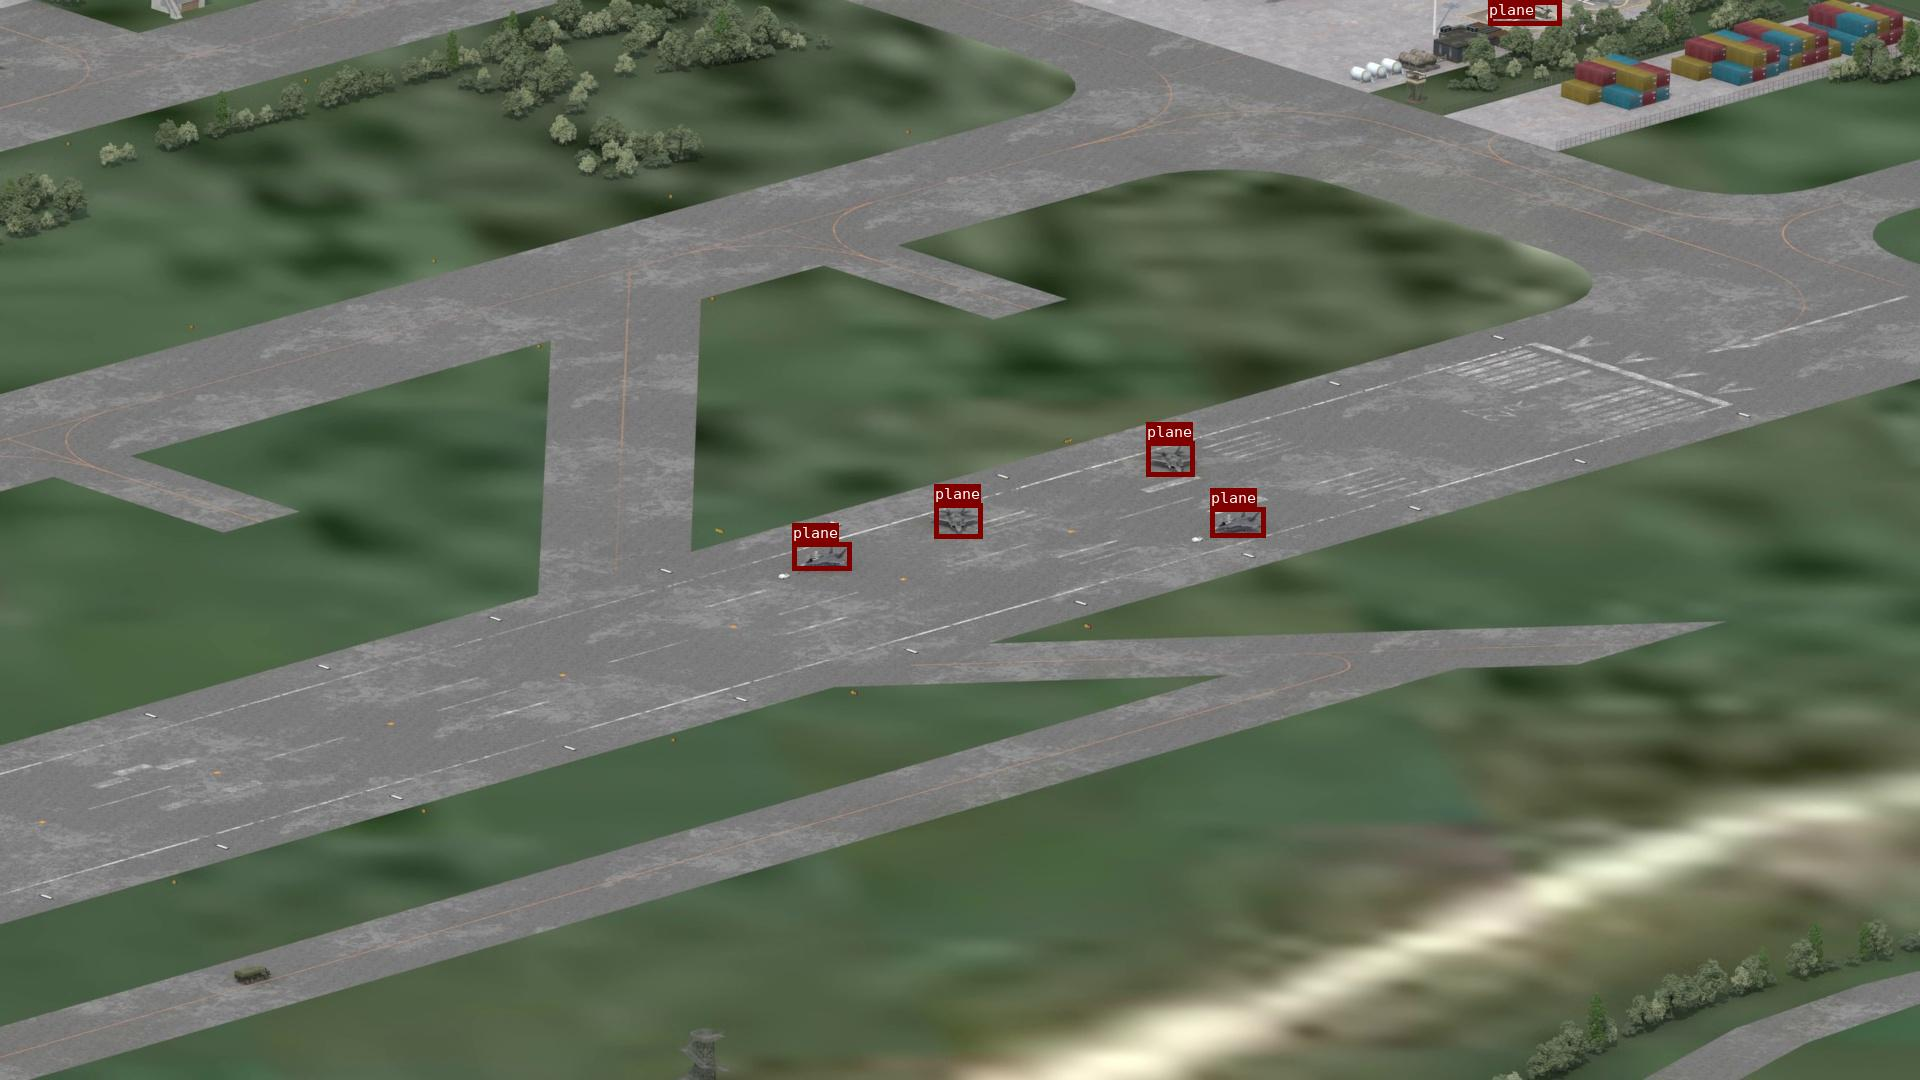plane: (1487, 0, 1561, 25), (934, 502, 982, 538), (1146, 440, 1193, 476), (1211, 506, 1265, 537), (793, 542, 851, 570)
